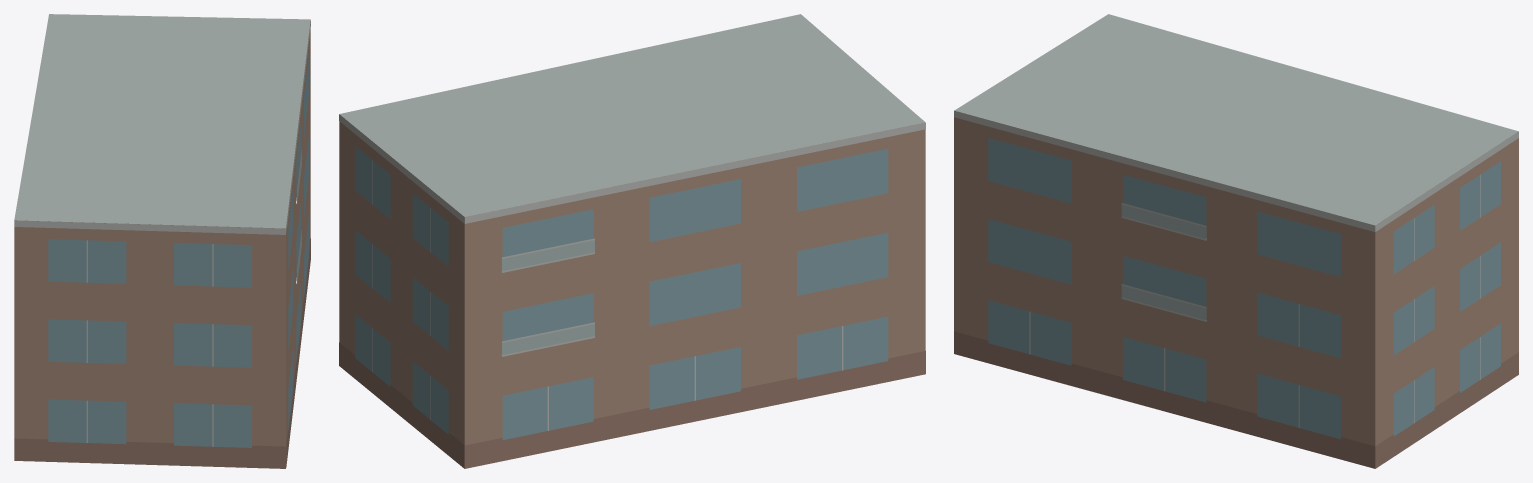
The model's file is survey-upis-33018611.glb.
3 views of the same model, side by side, from view 1: azimuth 30°, elevation 25°; view 2: azimuth 150°, elevation 25°; view 3: azimuth 270°, elevation 25° (orthographic). The views are drawn at different scales.
Visible parts, largest first — view 1: survey-upis-33018611.tmp; view 2: survey-upis-33018611.tmp; view 3: survey-upis-33018611.tmp.
Boxes of the visible parts, <box> form: survey-upis-33018611.tmp: <box>14,14,310,468</box>; survey-upis-33018611.tmp: <box>339,14,925,468</box>; survey-upis-33018611.tmp: <box>954,14,1518,468</box>.
Size of the model in its own units: 16.79 by 9 by 18.94.
